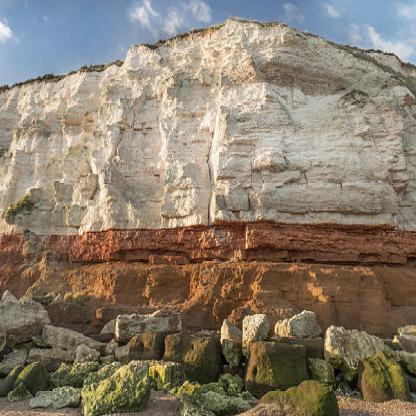Sedimentary_Sandstone: (228, 46, 332, 216), (135, 26, 222, 225), (343, 69, 415, 227), (57, 63, 128, 222), (1, 75, 42, 234), (2, 230, 129, 267), (134, 228, 228, 266), (329, 239, 415, 271), (240, 227, 318, 259)
